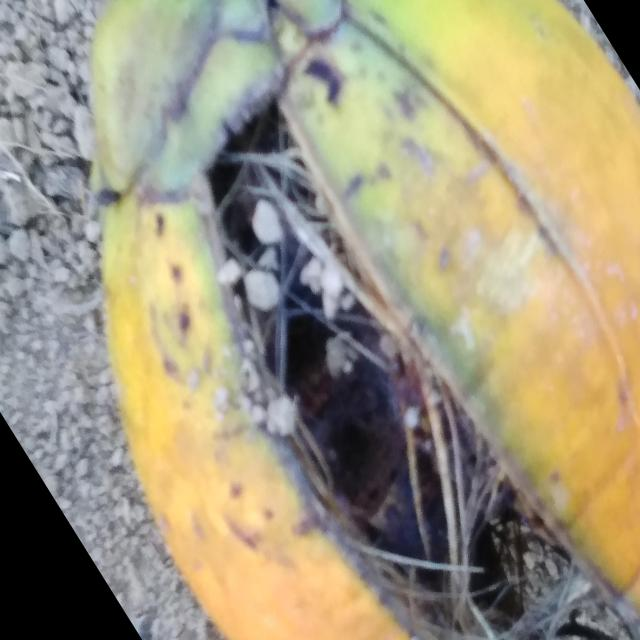damaged: (88, 0, 640, 640)
